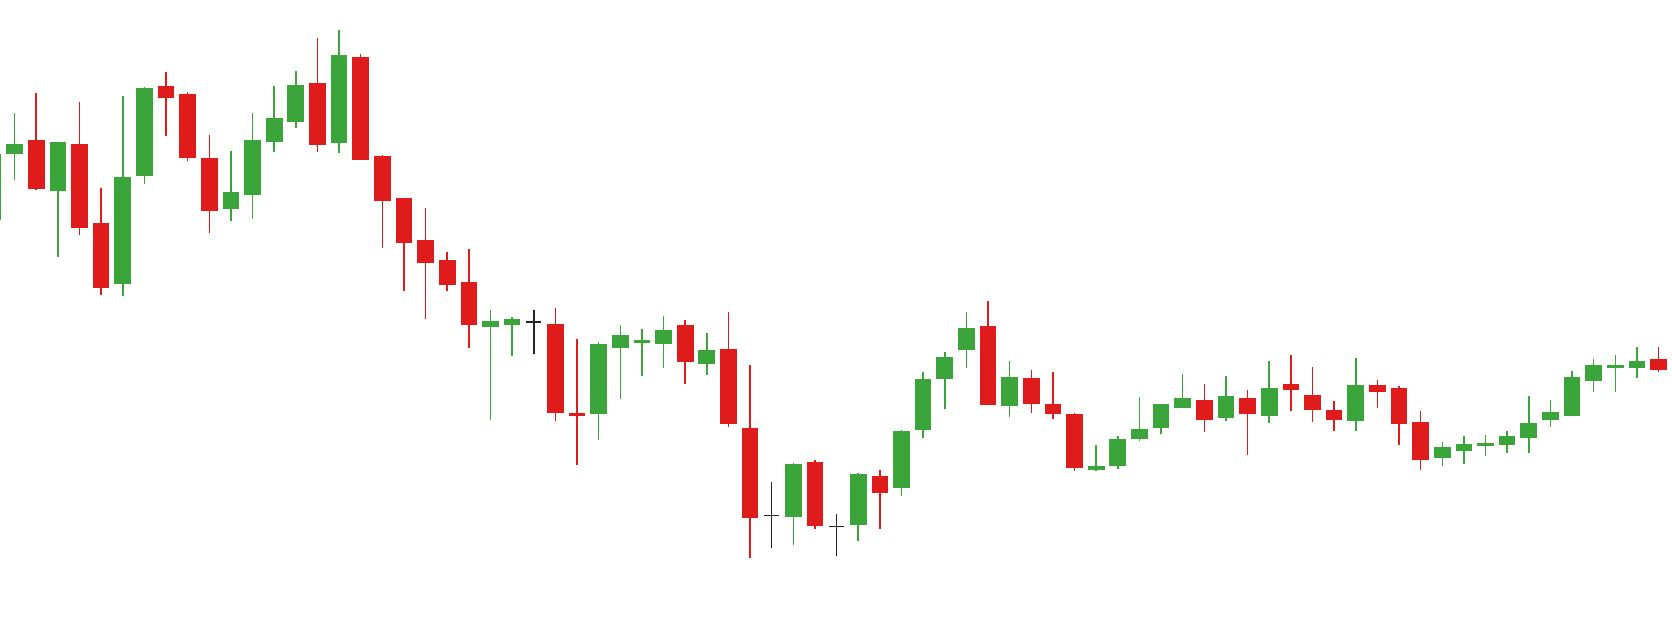sell: (716, 287, 998, 468), (157, 42, 329, 192)
